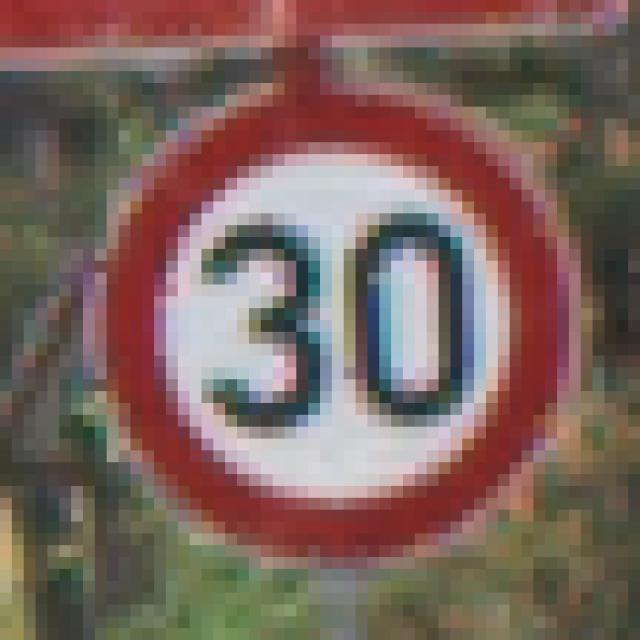Speed Limit -30-: (65, 53, 575, 563)
